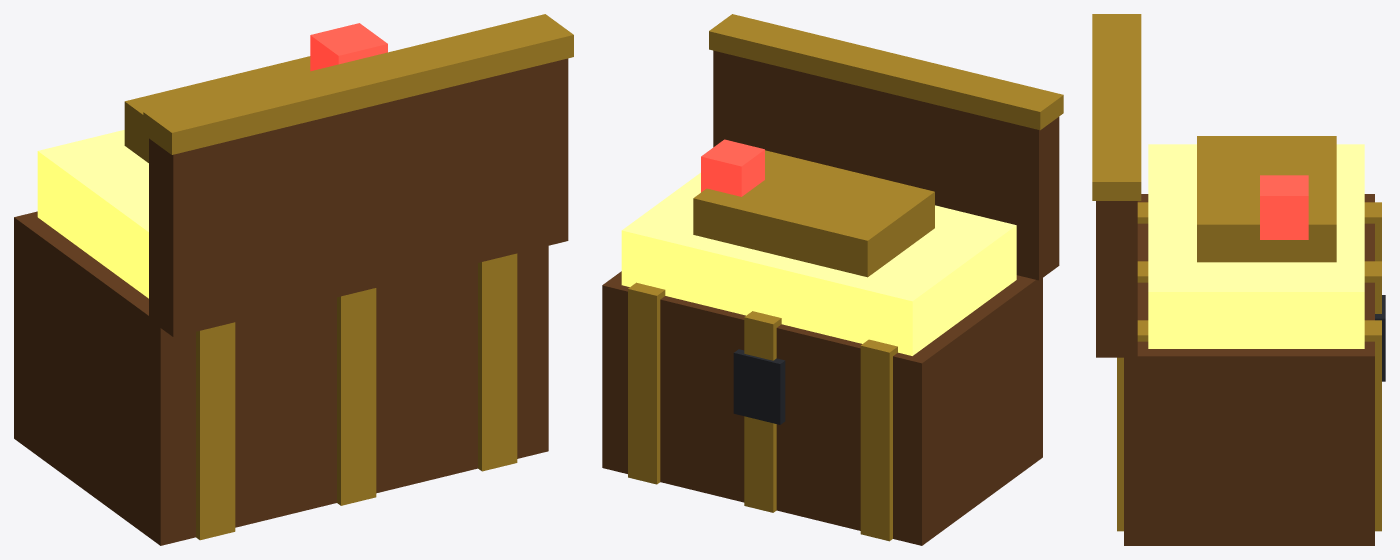
Rendered from dba-gold-chest.glb.
3 renders of one model, left to right at view 1: azimuth 30°, elevation 25°; view 2: azimuth 150°, elevation 25°; view 3: azimuth 270°, elevation 25°, orthographic. The views are drawn at different scales.
Visible parts, largest first — view 1: box-prop; view 2: box-prop; view 3: box-prop.
Boxes of the visible parts, bbox=[...] form: box-prop: bbox=[14, 14, 573, 545]; box-prop: bbox=[602, 14, 1063, 545]; box-prop: bbox=[1092, 14, 1385, 545].
Size of the model in its own units: 1.14 by 1.16 by 0.84.
